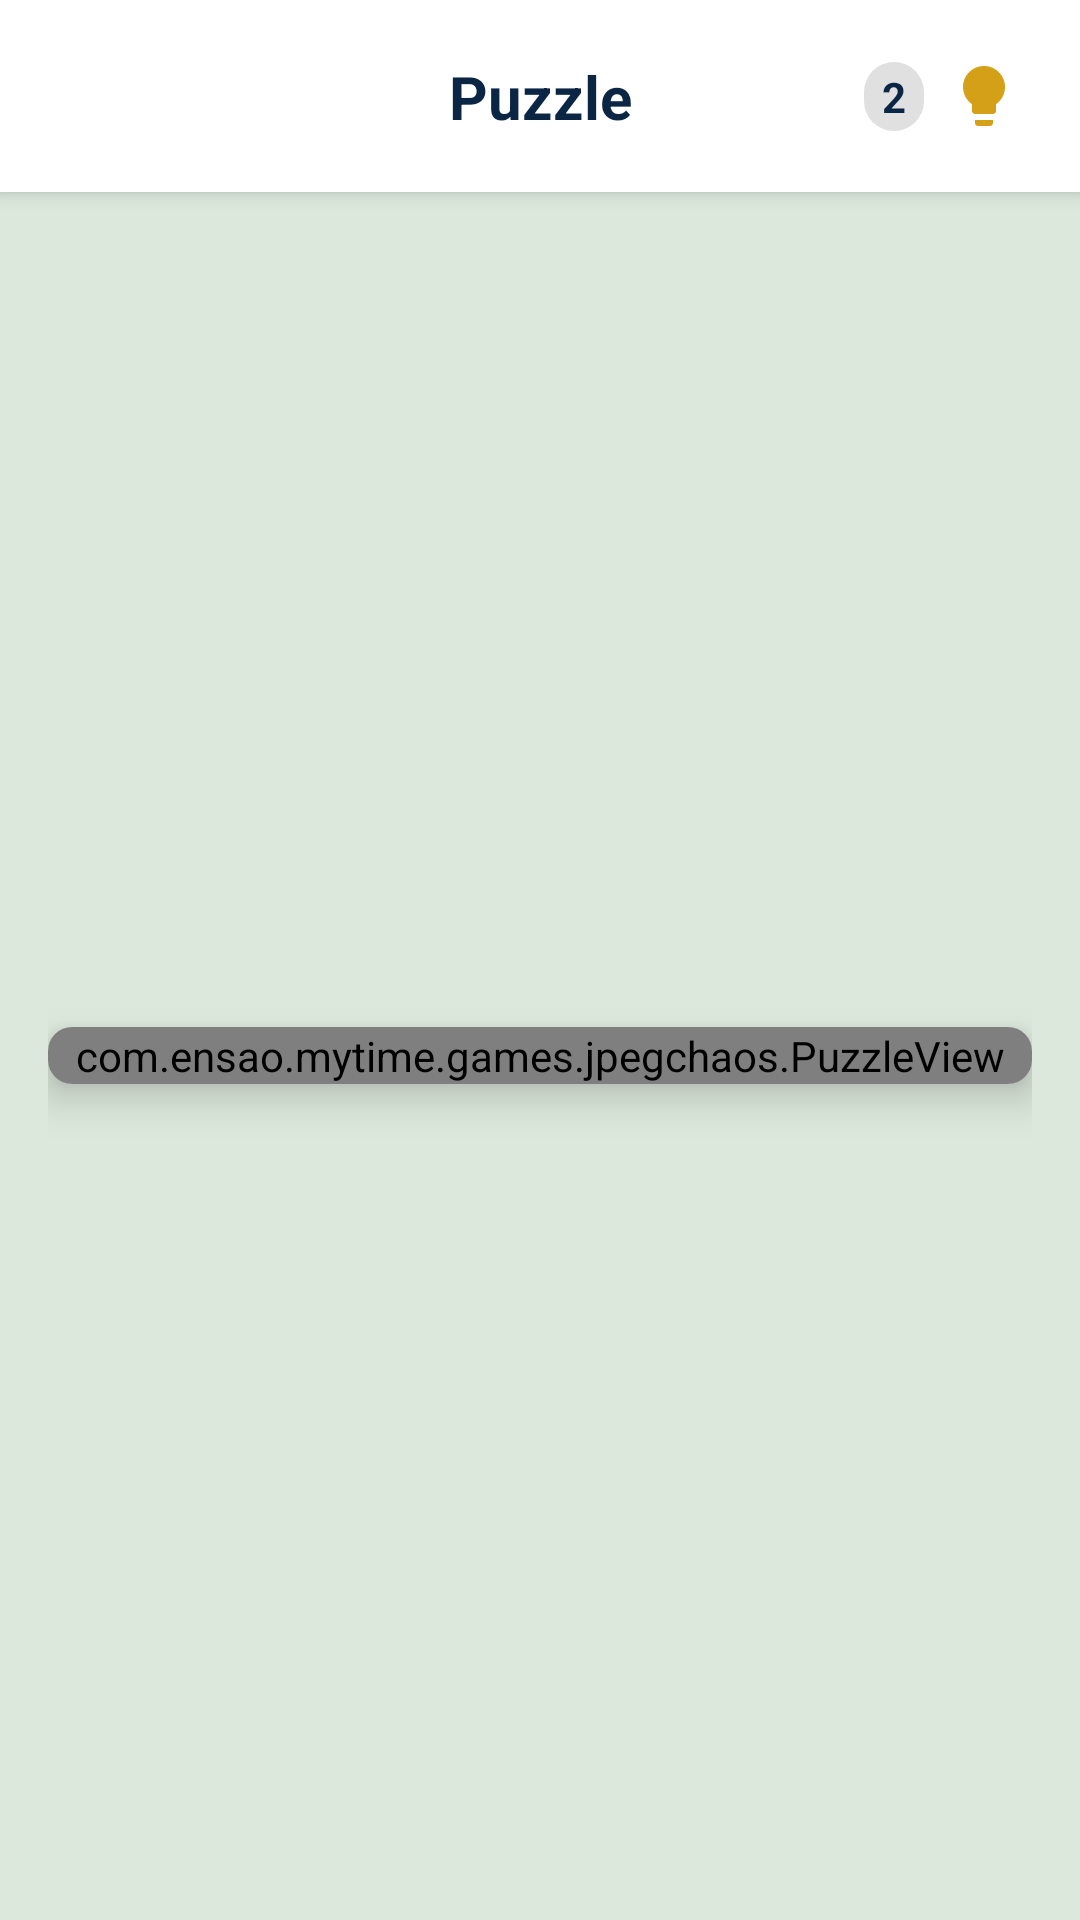

Locate icon controls on the screen. Image size 1080px×1920px, boxes as (x1,y1,x2,y2).
Hint: (963,66,1005,126)
